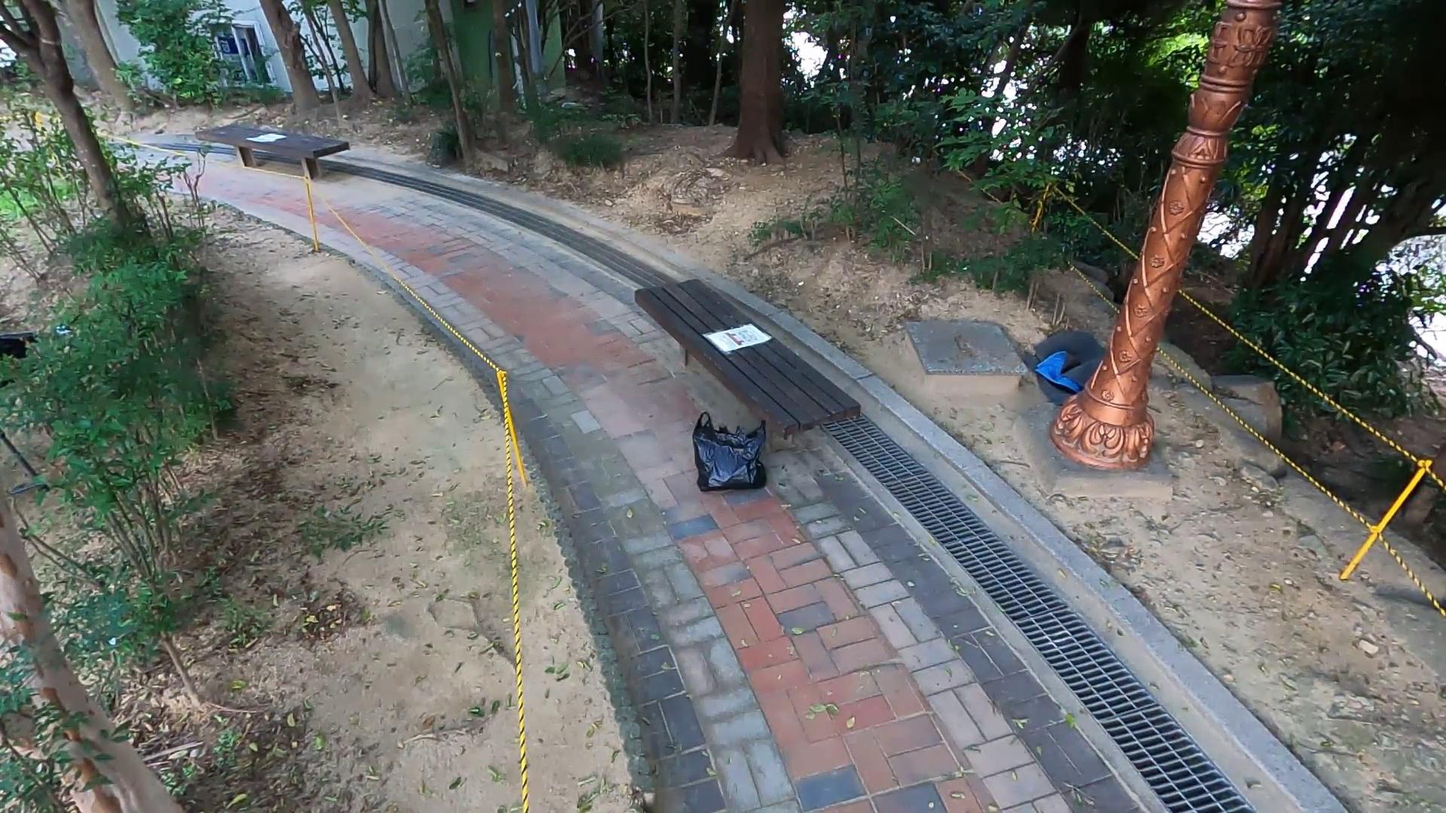trash: (1019, 328, 1119, 407), (690, 407, 768, 492)
